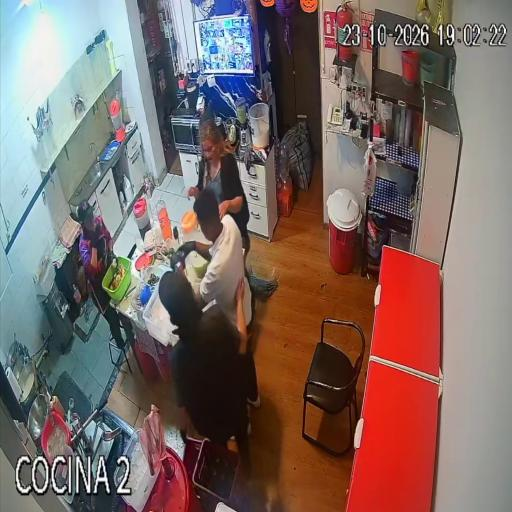Envase Llajua: (47, 395, 64, 417)
Jarra1: (133, 197, 150, 241)
Jarra2: (179, 210, 197, 244)
Microondas: (171, 115, 202, 153)
Persona1: (159, 273, 250, 448)
Persona2: (78, 201, 123, 347), (110, 313, 122, 341)
Persona3: (188, 120, 250, 249)
Persona4: (181, 189, 253, 327), (245, 352, 259, 406)
Taper2: (130, 272, 154, 312)
Taper3: (143, 272, 183, 345)
